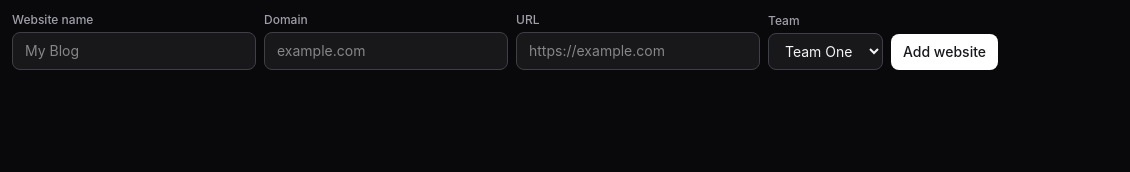
gap closure: json parse failures and busy guards › adds with an unparseable error body falling back to request_failed
In the field labelled "Website name": (134, 51) x1=12 y1=32 x2=256 y2=70, type "X"
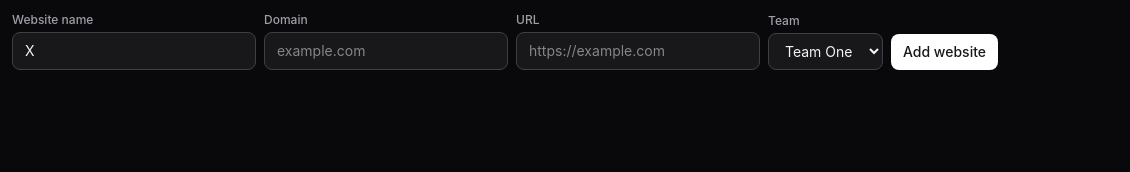
In the field labelled "Domain": (386, 51) x1=264 y1=32 x2=508 y2=70, type "x.example"
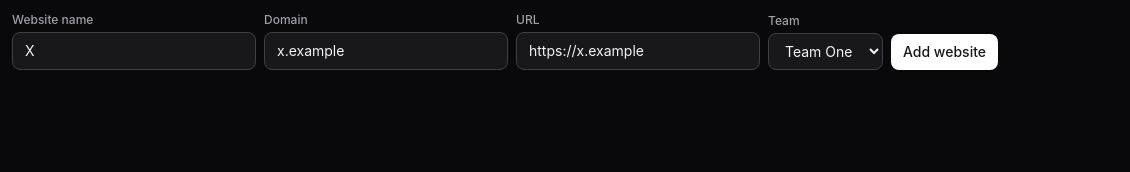
Click the button "Add website": (944, 52) x1=891 y1=34 x2=998 y2=70
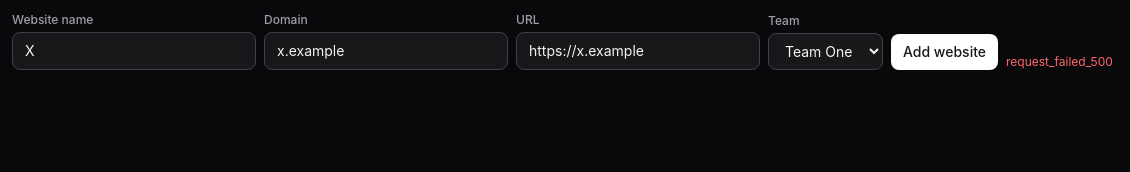
Result: the message reads "request_failed_500" at x1=1006 y1=54 x2=1113 y2=69
